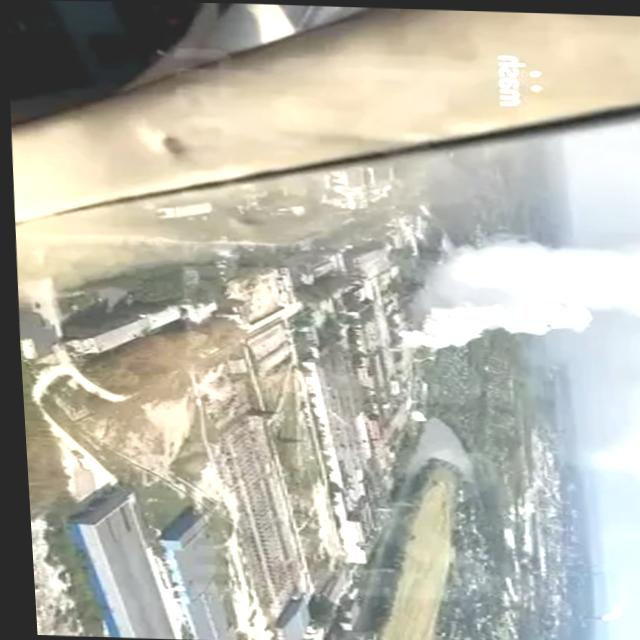Smoke: (390, 221, 640, 351)
